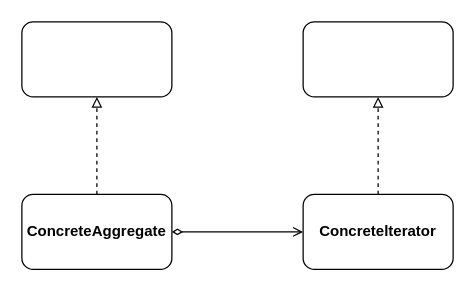
The diagram is 475 pixels wide and 291 high, and some of its shapes have lost their labels. The shapes that lost their labels are listed below. From the top down, each one's centre as x and y in pixels, then its label:
At point (96, 59): "Aggregate".
At point (377, 59): "Iterator".
